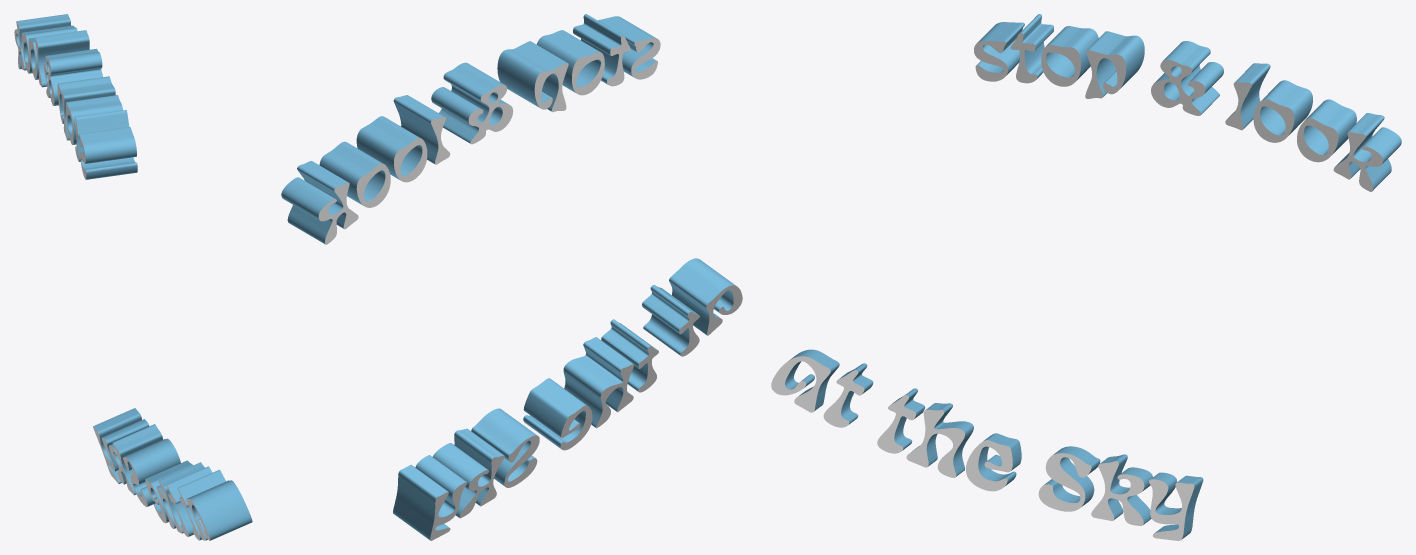
Rendered from CloudyEyesTextNewer.gltf.
3 renders of one model, left to right at view 1: azimuth 30°, elevation 25°; view 2: azimuth 150°, elevation 25°; view 3: azimuth 270°, elevation 25°, orthographic. The views are drawn at different scales.
Visible parts, largest first — view 1: stop & look, at the Sky; view 2: stop & look, at the Sky; view 3: stop & look, at the Sky.
Part boxes in pixels (x1,y1,x2,y2): stop & look: (14,14,137,179); at the Sky: (93,408,252,540); stop & look: (281,14,660,244); at the Sky: (393,258,742,540); stop & look: (974,14,1401,191); at the Sky: (771,349,1203,540).
Size of the model in its own units: 1.12 by 2.88 by 3.51.
